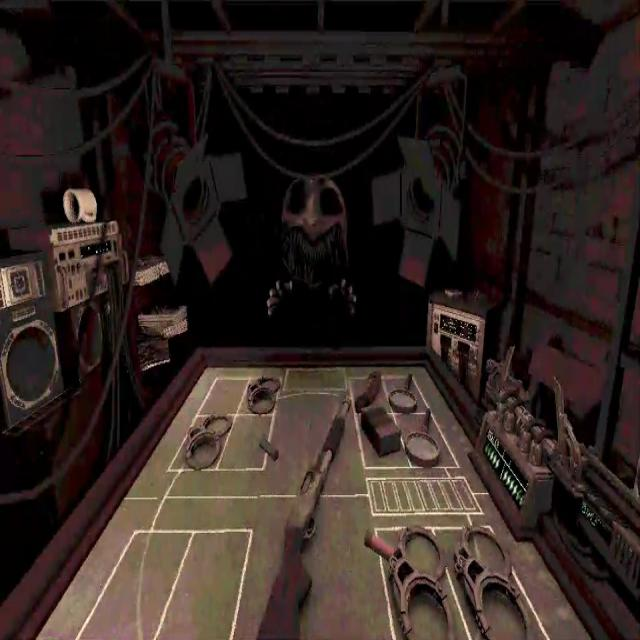ally: (36, 490, 594, 639)
cigar: (359, 406, 402, 456)
doubledamage: (355, 371, 381, 411)
emptyspace: (77, 532, 191, 639), (157, 532, 251, 638), (218, 415, 272, 467), (197, 375, 247, 414)
enemyspace: (134, 362, 484, 482)
gun: (257, 400, 349, 639)
handcuff: (453, 526, 527, 639), (391, 527, 451, 639), (185, 415, 227, 469), (245, 376, 281, 414)
lens: (405, 409, 440, 467), (389, 374, 417, 413)
